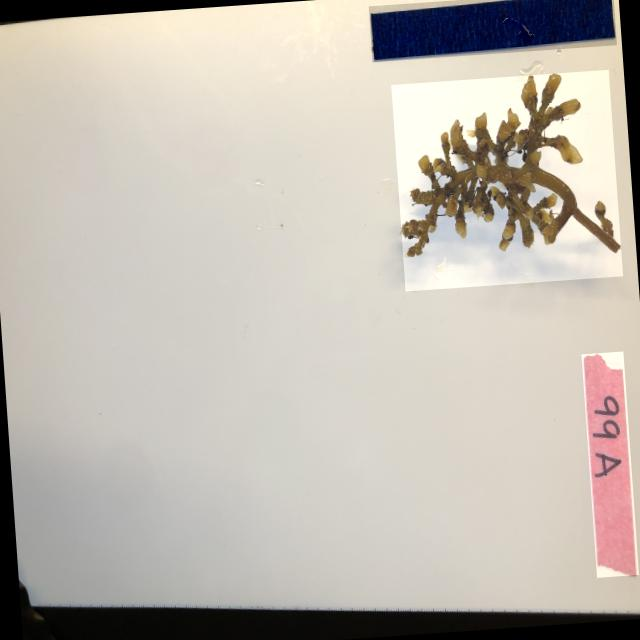index: (580, 352, 638, 578)
measure_label: (367, 0, 615, 62)
rachis_cluster: (389, 69, 622, 291)
